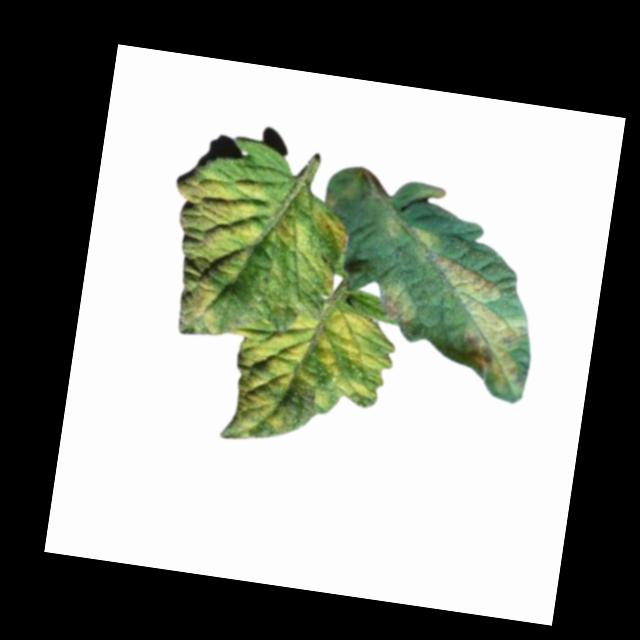Leaf_Mold: (223, 293, 402, 459), (154, 167, 272, 340), (410, 250, 541, 397), (267, 195, 353, 298), (381, 208, 442, 252), (372, 275, 417, 326)
